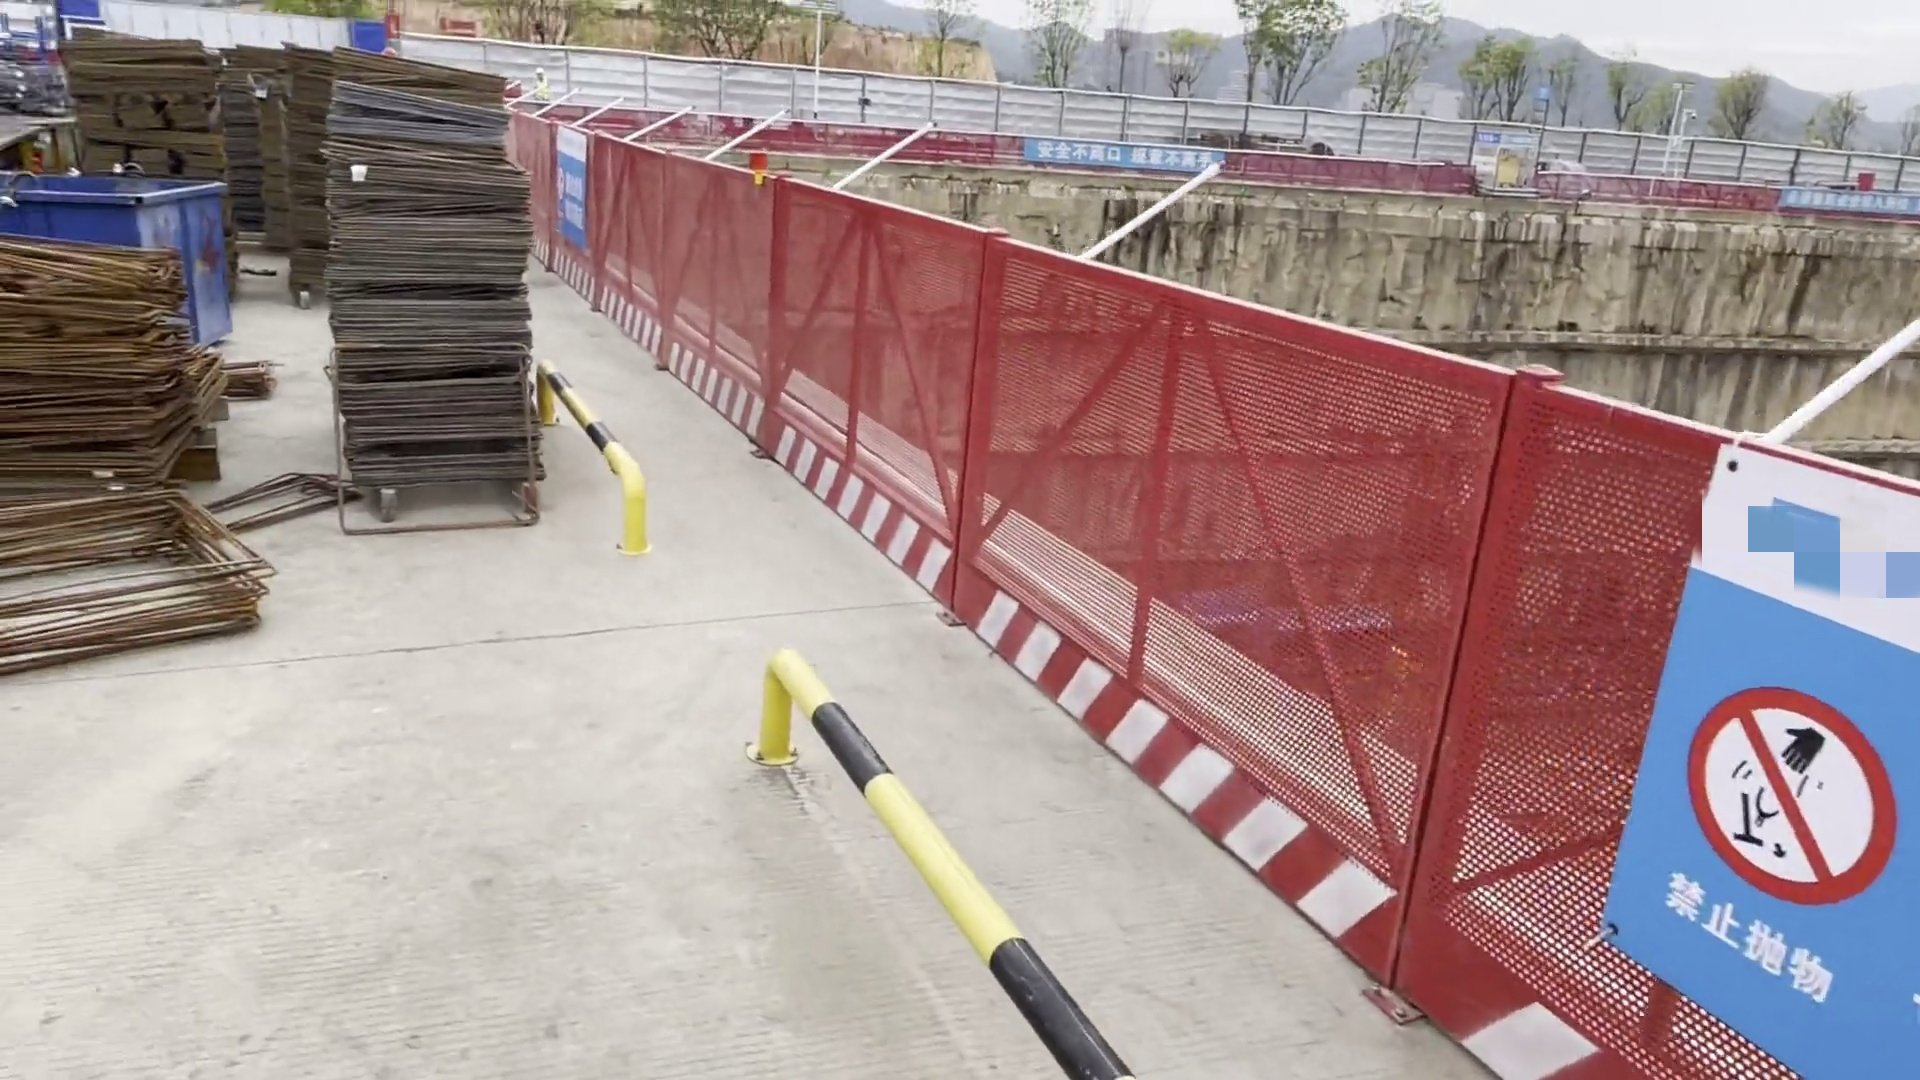fence: (990, 238, 1745, 1080), (666, 153, 977, 658), (513, 117, 660, 352)
hopper: (8, 166, 232, 351)
person: (530, 63, 546, 105)
slogan: (1597, 431, 1919, 1078), (1025, 136, 1214, 178), (554, 125, 587, 250), (1775, 186, 1913, 215)
